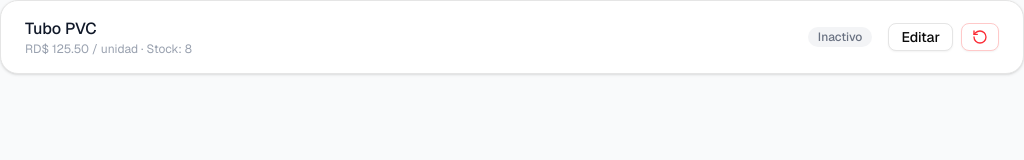
Test case: Lista de productos — aviso persistente › restaurar un producto muestra el aviso persistente Producto restaurado
The width and height of the screenshot is (1024, 160).
Step 1. Click the button named "Restaurar Tubo PVC" → (980, 37), box [961, 23, 999, 51]
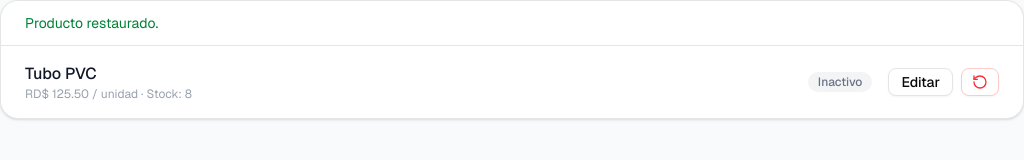
Result: the message reads "Producto restaurado." at [25, 14, 158, 32]
